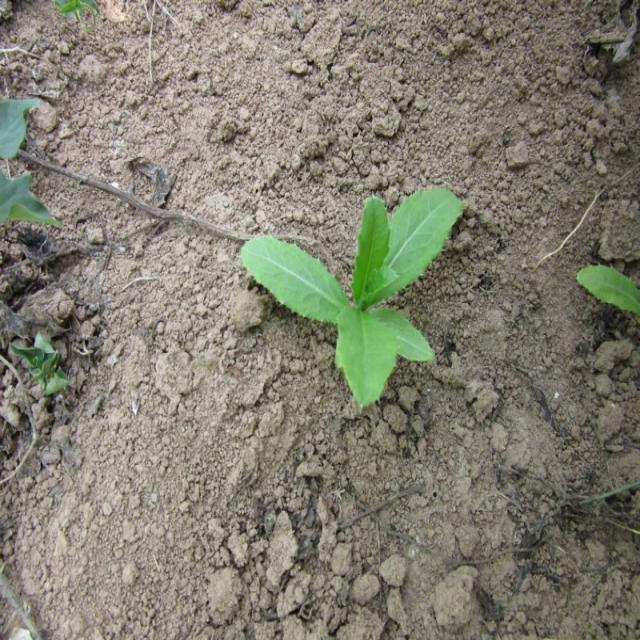field_thistle: (242, 136, 476, 410)
